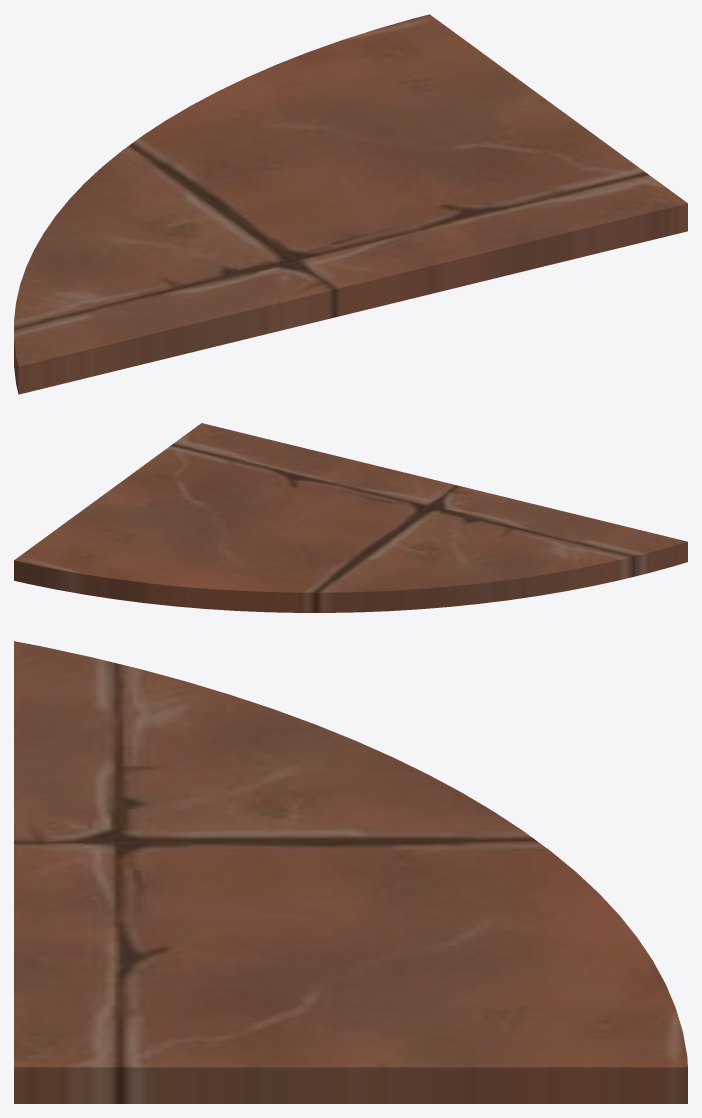
Rendered from Tile_Break1.FBX.
3 views of the same model, one above another, from view 1: azimuth 30°, elevation 25°; view 2: azimuth 150°, elevation 25°; view 3: azimuth 270°, elevation 25° (orthographic). The views are drawn at different scales.
Parts seen in each view (by area): view 1: Piso67, Piso59, Piso66, Piso65, Piso60, Piso57, Piso55, Piso64, Piso56, Piso61, Piso58, Piso63 (+1 smaller); view 2: Piso59, Piso66, Piso67, Piso60, Piso65, Piso64, Piso57, Piso56, Piso58, Piso61, Piso55, Piso63 (+2 smaller); view 3: Piso59, Piso67, Piso60, Piso66, Piso65, Piso57, Piso55, Piso64, Piso56, Piso61, Piso58, Piso63 (+2 smaller).
Boxes of the visible parts, x1,y1,x2,y2 form: Piso67: (194, 191, 660, 348); Piso59: (368, 70, 687, 237); Piso66: (14, 257, 206, 394); Piso65: (183, 190, 420, 274); Piso60: (269, 14, 505, 98); Piso57: (290, 98, 426, 201); Piso55: (153, 124, 322, 202); Piso64: (30, 214, 194, 275); Piso56: (133, 99, 289, 168); Piso61: (57, 169, 182, 231); Piso58: (202, 68, 366, 123); Piso63: (154, 170, 294, 230); Piso59: (70, 423, 280, 546); Piso66: (488, 508, 687, 598); Piso67: (222, 428, 550, 527); Piso60: (14, 519, 161, 603); Piso65: (281, 495, 487, 546); Piso64: (427, 528, 521, 606); Piso57: (162, 498, 341, 557); Piso56: (219, 557, 343, 612); Piso58: (150, 546, 227, 609); Piso61: (345, 547, 449, 610); Piso55: (229, 527, 345, 577); Piso63: (343, 528, 425, 576); Piso59: (14, 947, 503, 1103); Piso67: (14, 761, 219, 1049); Piso60: (488, 956, 687, 1103); Piso66: (14, 641, 296, 784); Piso65: (113, 785, 273, 947); Piso57: (220, 881, 506, 984); Piso55: (274, 834, 484, 929); Piso64: (144, 718, 395, 807); Piso56: (455, 834, 607, 928); Piso61: (269, 759, 457, 834); Piso58: (485, 903, 649, 982); Piso63: (252, 808, 450, 880).
Bounding box in the file's own units: 125 × 5 × 83.64.
Materials: 1 (1 with a texture image).
